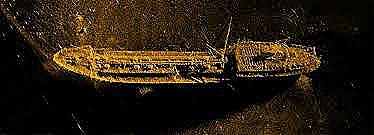ship: (51, 14, 322, 96)
